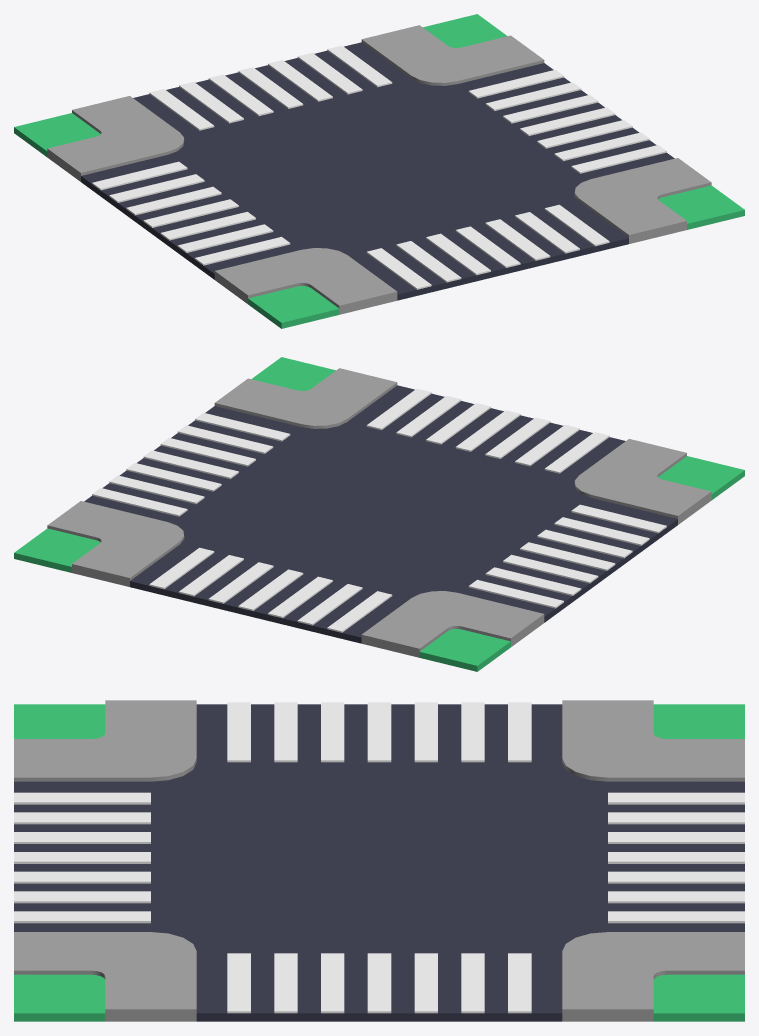
File: CG-City Assets.gltf
3 renders of one model, top to bottom at view 1: azimuth 30°, elevation 25°; view 2: azimuth 150°, elevation 25°; view 3: azimuth 270°, elevation 25°, orthographic. The views are drawn at different scales.
Visible parts, largest first — view 1: Road, Footpaths, Crosswalk, Grass; view 2: Road, Footpaths, Crosswalk, Grass; view 3: Road, Footpaths, Crosswalk, Grass.
Boxes of the visible parts, x1,y1,x2,y2 form: Road: [81, 42, 674, 300]; Footpaths: [47, 25, 711, 314]; Crosswalk: [92, 45, 666, 289]; Grass: [14, 14, 744, 328]; Road: [84, 385, 677, 643]; Footpaths: [47, 368, 711, 657]; Crosswalk: [92, 388, 666, 632]; Grass: [14, 357, 744, 671]; Road: [14, 704, 744, 1021]; Footpaths: [14, 700, 744, 1021]; Crosswalk: [14, 702, 744, 1013]; Grass: [14, 704, 744, 1021].
Size of the model in its own units: 0.16 by 0.003 by 0.16.
